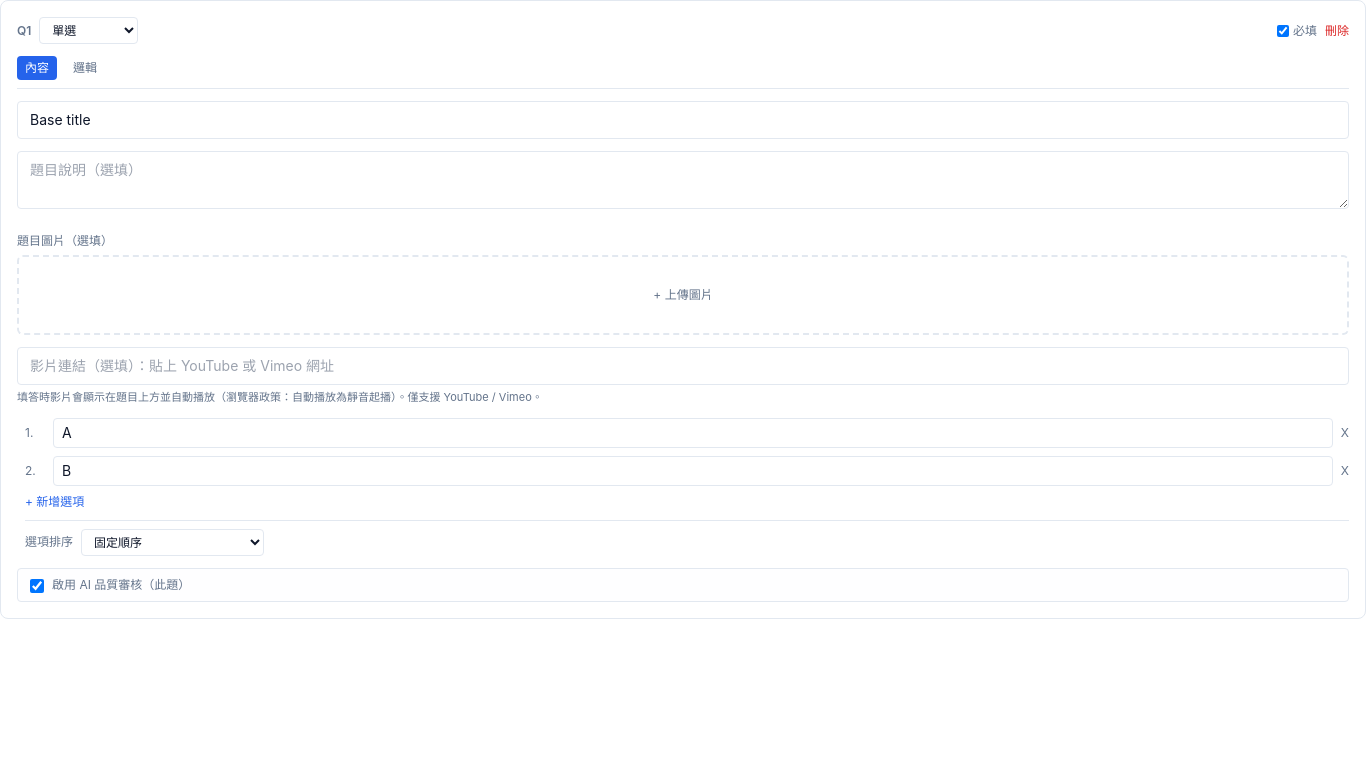
Test: QuestionEditor › switches back to content tab from logic tab
The width and height of the screenshot is (1366, 768).
Click the button "邏輯".
click(85, 68)  # box [65,56,105,80]
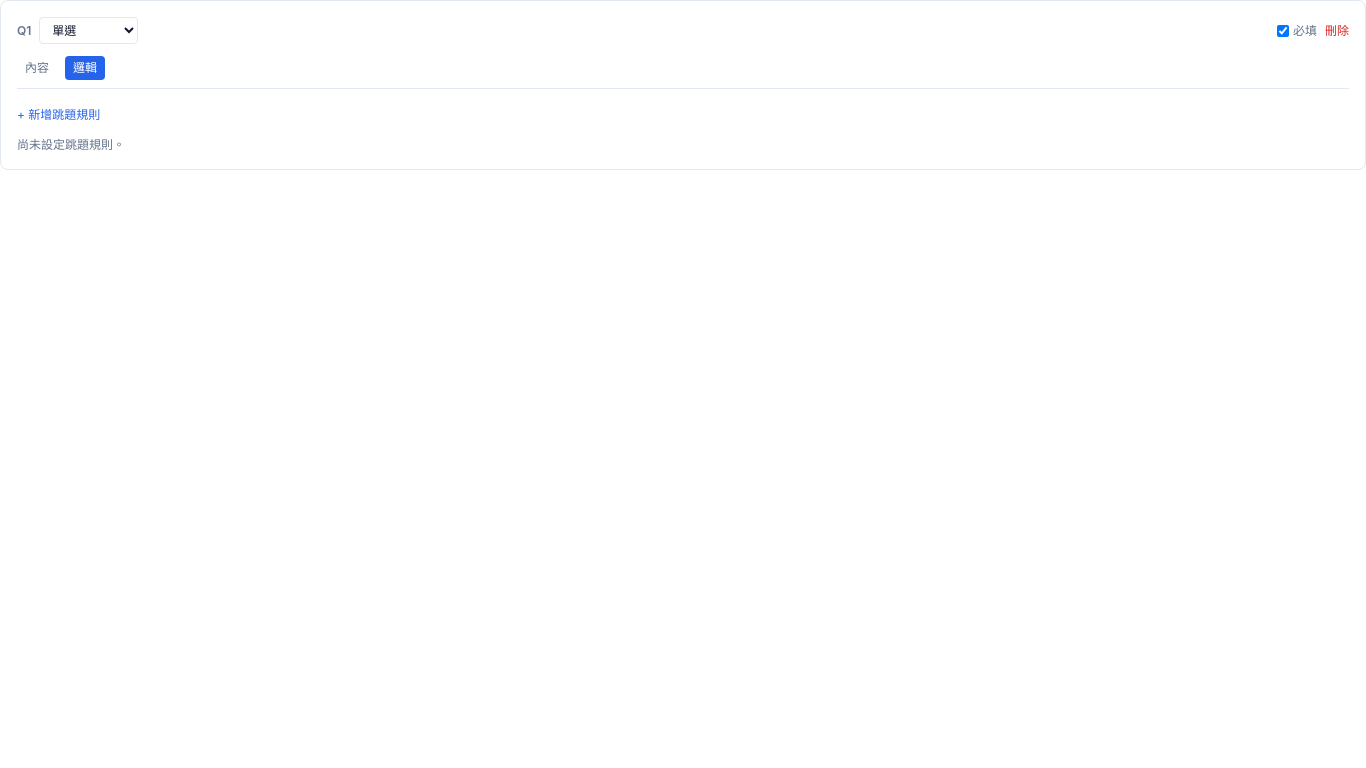
Click the button "內容".
click(37, 68)  # box [17,56,57,80]
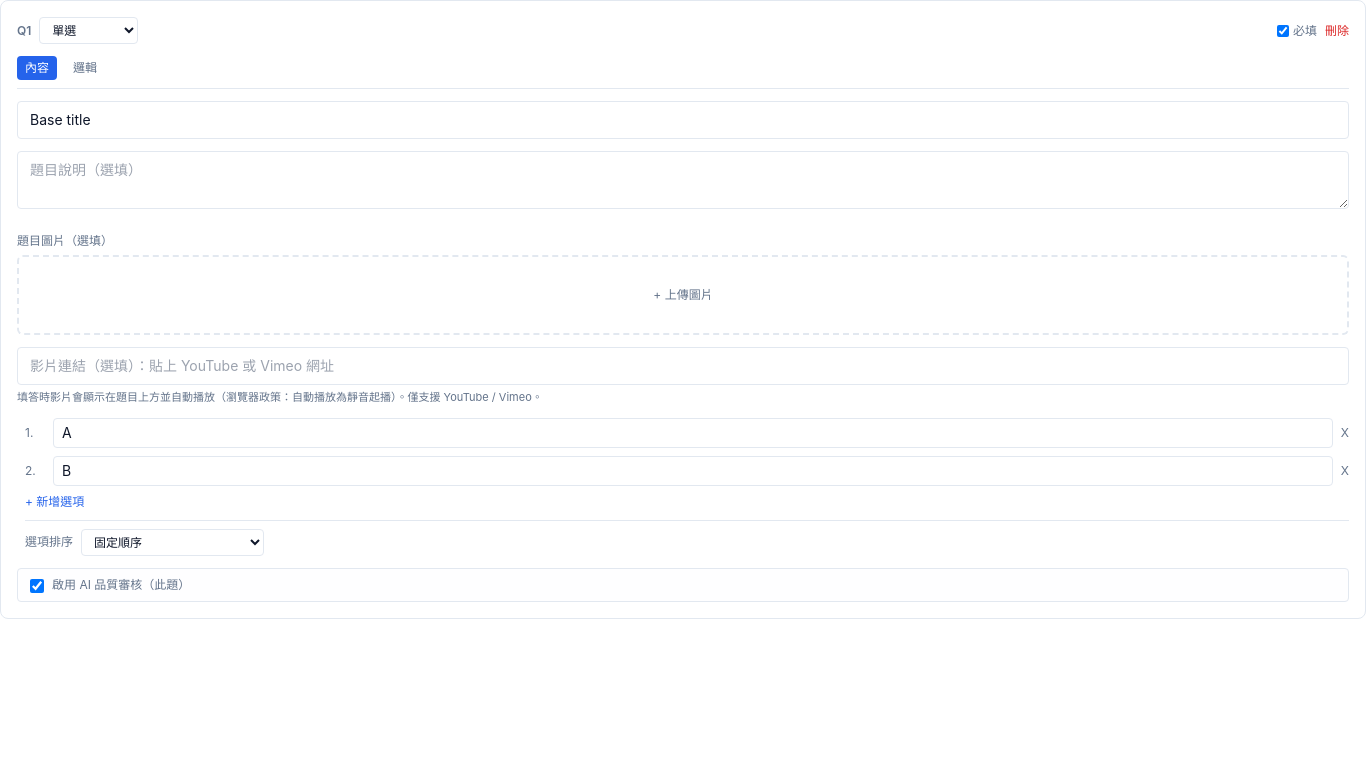
Expected: the 1st field with placeholder "題目文字" is shown, [17,101,1349,139]
